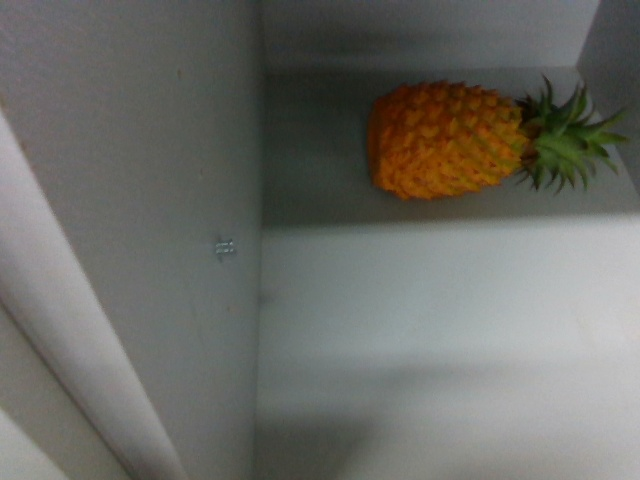pineapple: (363, 75, 627, 199)
